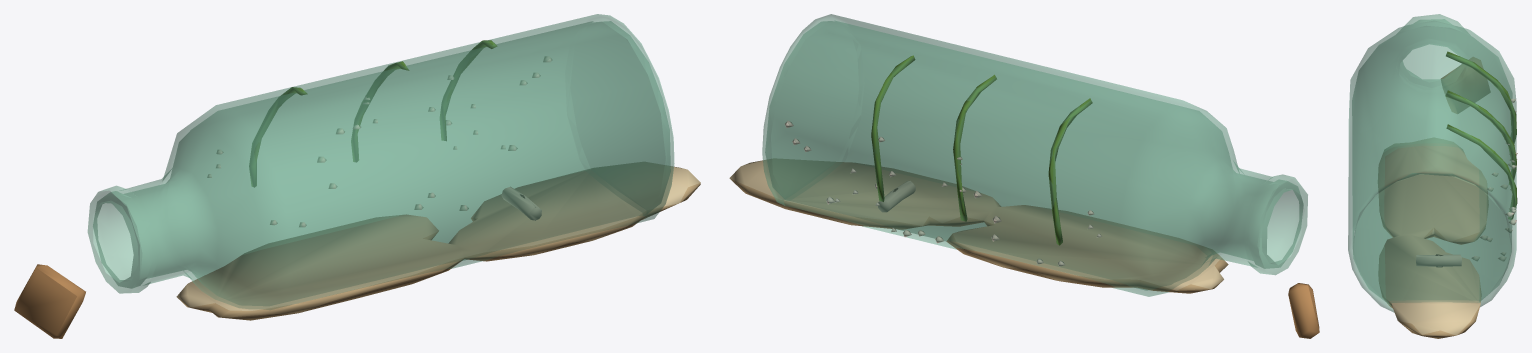
The model's file is shore_bottle_lod2.glb.
The picture shows the model from 3 angles, left to right: view 1: azimuth 30°, elevation 25°; view 2: azimuth 150°, elevation 25°; view 3: azimuth 270°, elevation 25°; orthographic projection. The views are drawn at different scales.
Visible parts, largest first — view 1: shore_bottle.001; view 2: shore_bottle.001; view 3: shore_bottle.001.
Part boxes in pixels (x1,y1,x2,y2): shore_bottle.001: (14,14,700,338); shore_bottle.001: (729,14,1319,338); shore_bottle.001: (1348,14,1517,338).
Size of the model in its own units: 44.33 by 12.72 by 12.77.
